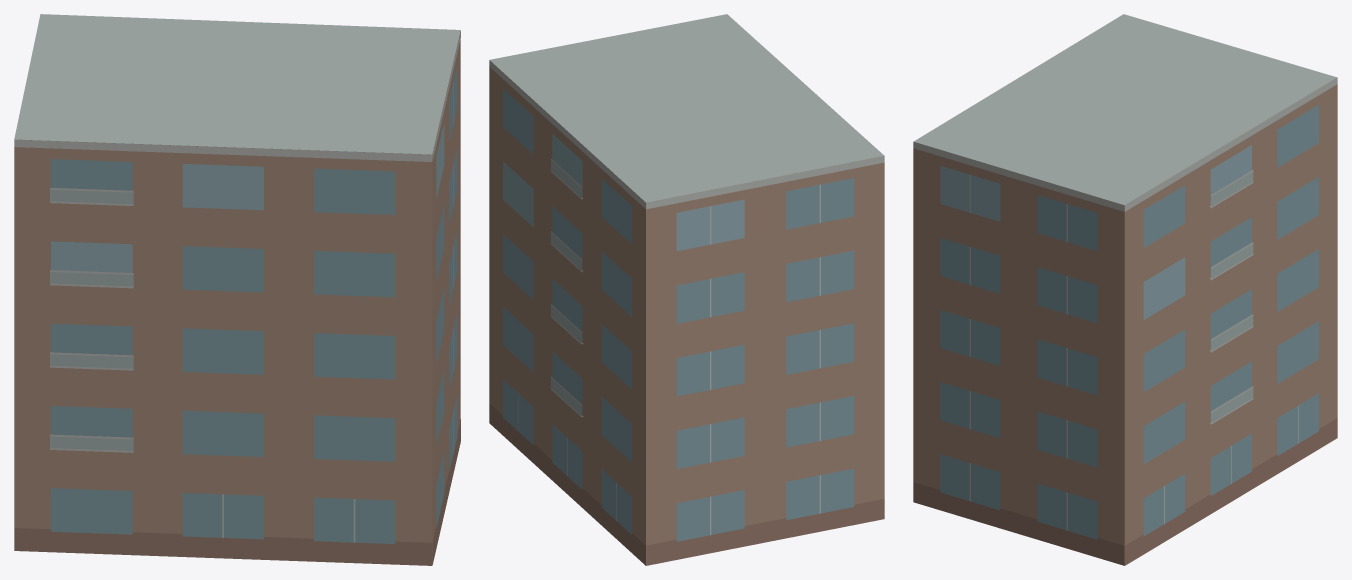
The model's file is survey-upis-33012096.glb.
The picture shows the model from 3 angles, left to right: view 1: azimuth 30°, elevation 25°; view 2: azimuth 150°, elevation 25°; view 3: azimuth 270°, elevation 25°; orthographic projection. The views are drawn at different scales.
Parts seen in each view (by area): view 1: survey-upis-33012096.tmp; view 2: survey-upis-33012096.tmp; view 3: survey-upis-33012096.tmp.
Boxes of the visible parts, x1,y1,x2,y2 form: survey-upis-33012096.tmp: (14, 14, 460, 565); survey-upis-33012096.tmp: (489, 14, 884, 565); survey-upis-33012096.tmp: (913, 14, 1337, 565).
Bounding box in the file's own units: 15.03 × 13.2 × 14.08.
